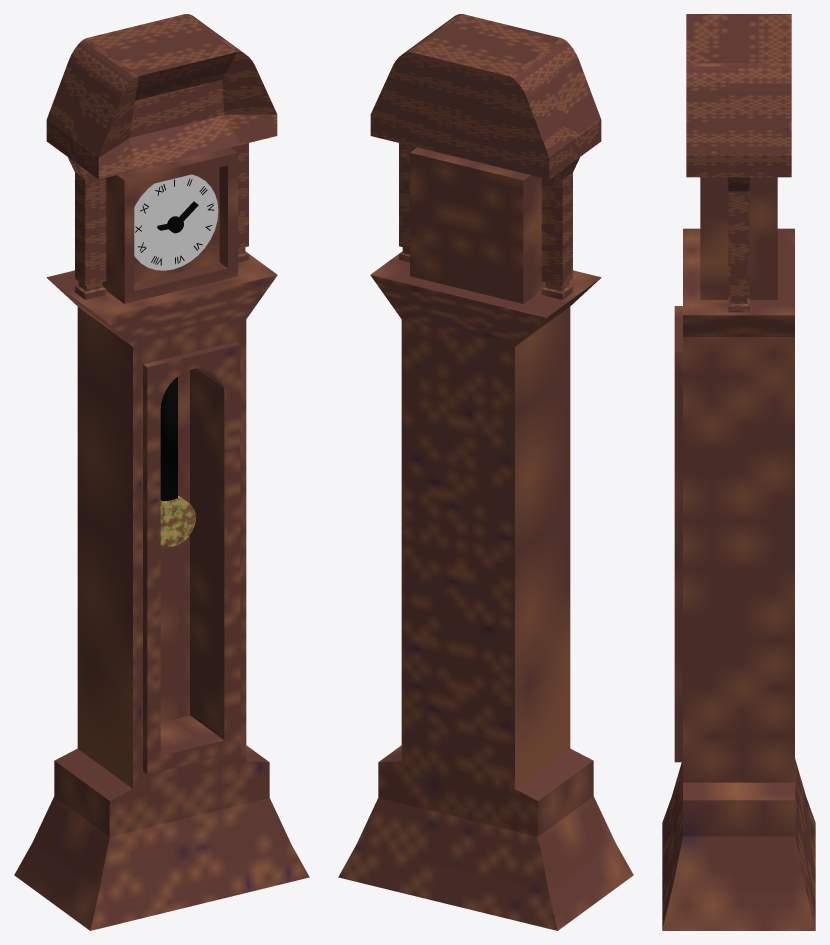
The model's file is Clock2.fbx.
3 renders of one model, left to right at view 1: azimuth 30°, elevation 25°; view 2: azimuth 150°, elevation 25°; view 3: azimuth 270°, elevation 25°, orthographic.
Parts seen in each view (by area): view 1: Cube, Text, Cylinder.001; view 2: Cube; view 3: Cube.
Part boxes in pixels (x1,y1,x2,y2): Cube: [14, 14, 309, 930]; Text: [134, 174, 218, 270]; Cylinder.001: [160, 377, 195, 546]; Cube: [338, 14, 633, 930]; Cube: [662, 14, 815, 930].
Bounding box in the file's own units: 0.2161 × 0.1298 × 0.7818.
5 materials, 3 textured.
